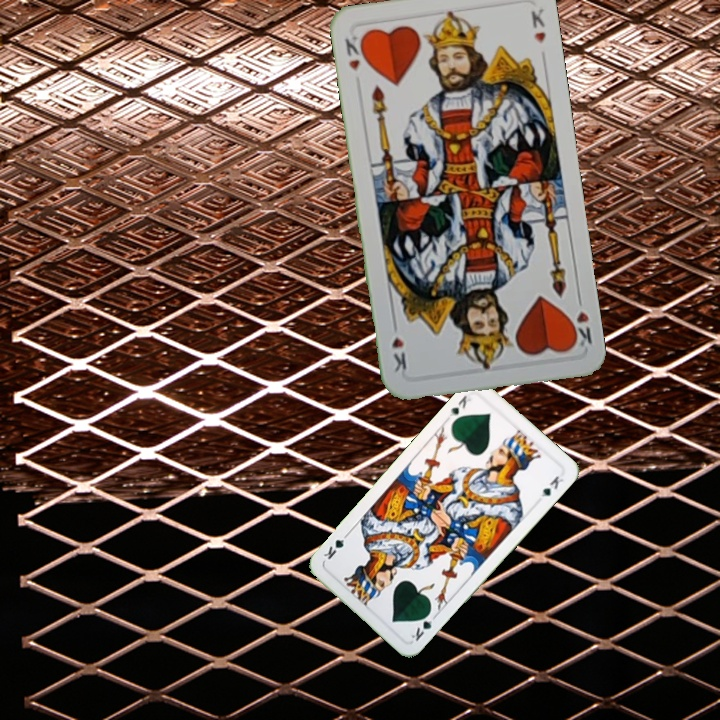GK: (407, 607, 440, 644), (445, 391, 473, 419)
HK: (565, 291, 595, 349), (341, 32, 362, 73)
